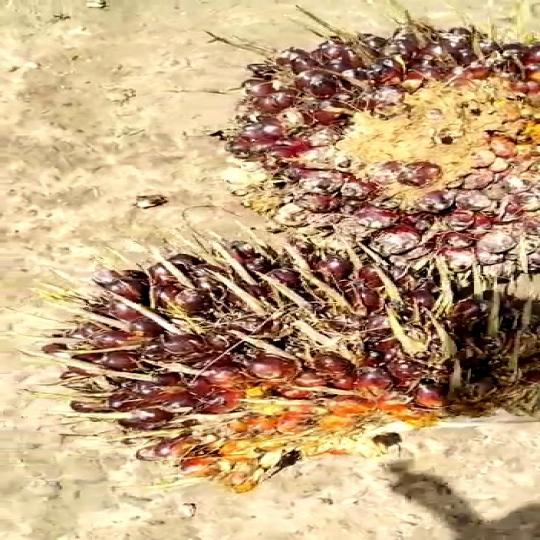kurang masak: (51, 238, 540, 494), (203, 19, 540, 290)
